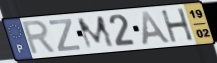2: (108, 13, 138, 48)
A: (140, 11, 173, 47)
H: (159, 7, 195, 44)
M: (75, 14, 117, 51)
R: (21, 19, 59, 57)
Z: (48, 18, 83, 53)
